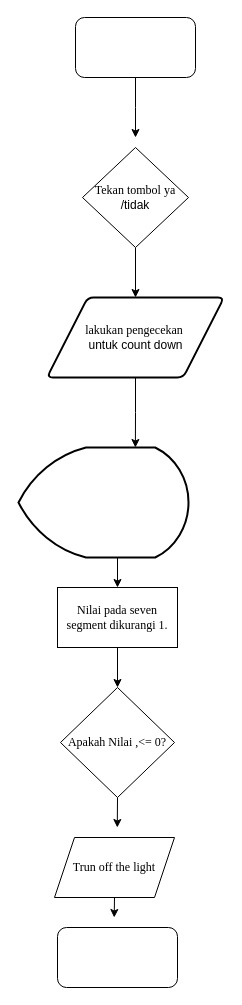
Some shapes in this 242 by 1005 pixel diagram are drawn without their labels. The shapes that lost their labels are listed below. From the top down, each one's centre as x and y in pixels, then its label:
At (x=135, y=47): "START".
At (x=103, y=502): "Pastikan angka pada seven segment ditampilkan sesuai dengan nilai yang ada.".
At (x=117, y=957): "end".
